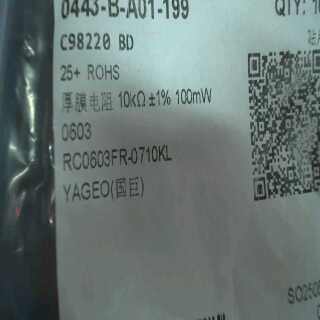10kR: (114, 87, 148, 112)
